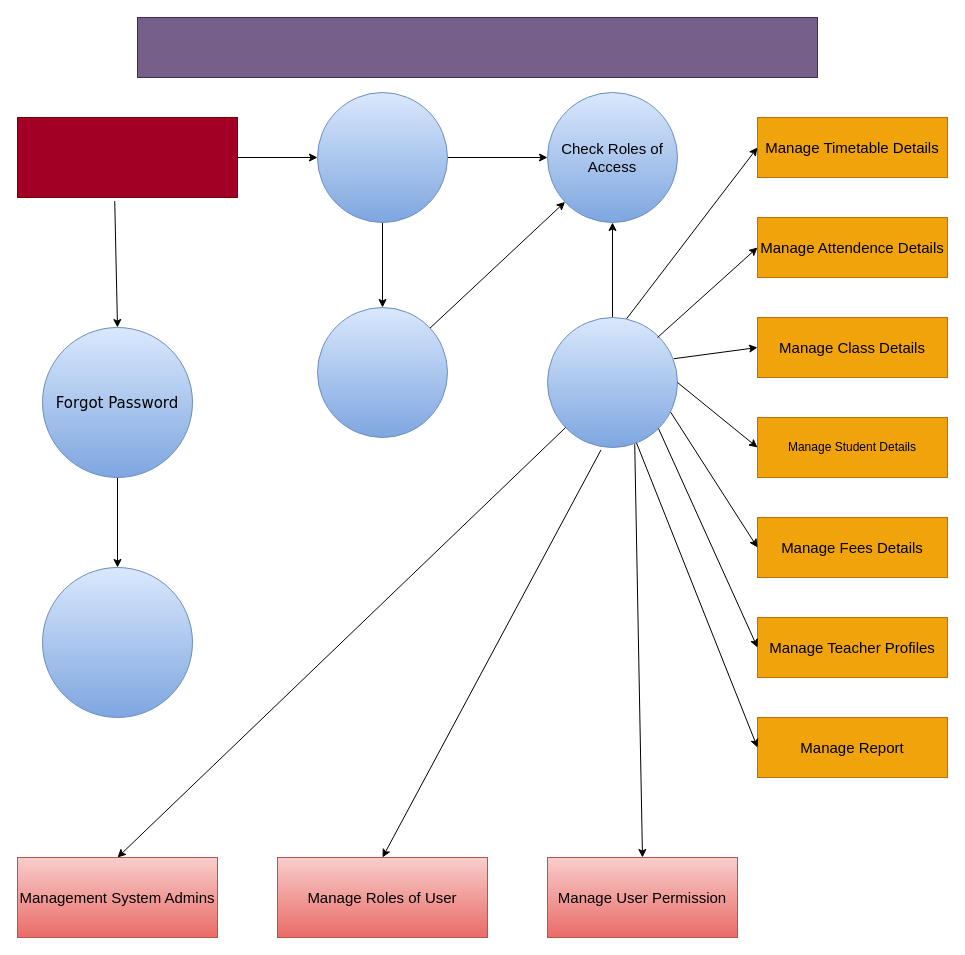
Image size: 965x955. Some labels were removed from this diagram. Each missing label, with the box of its shape:
Admin: (16, 116, 238, 198)
Check Credentials: (316, 306, 448, 438)
Login to System: (316, 92, 448, 222)
Manage Modules: (546, 316, 678, 448)
Send Email to User: (42, 566, 192, 718)
Student Infromation System: (136, 16, 818, 78)
